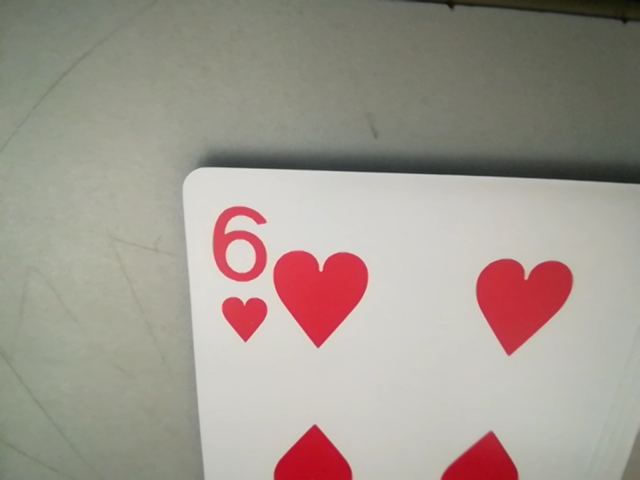hx 6: (199, 206, 276, 343)
